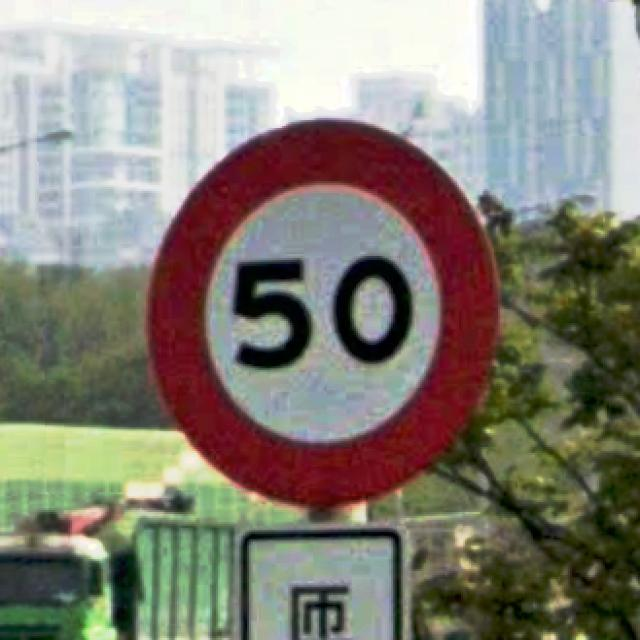max50: (142, 112, 504, 510)
